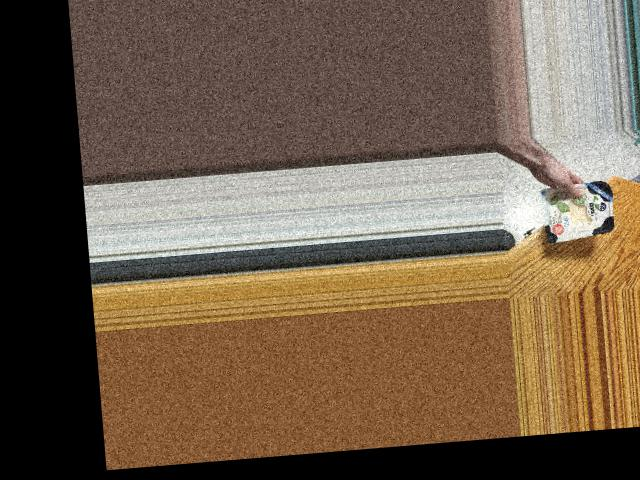cheese: (528, 181, 627, 244)
